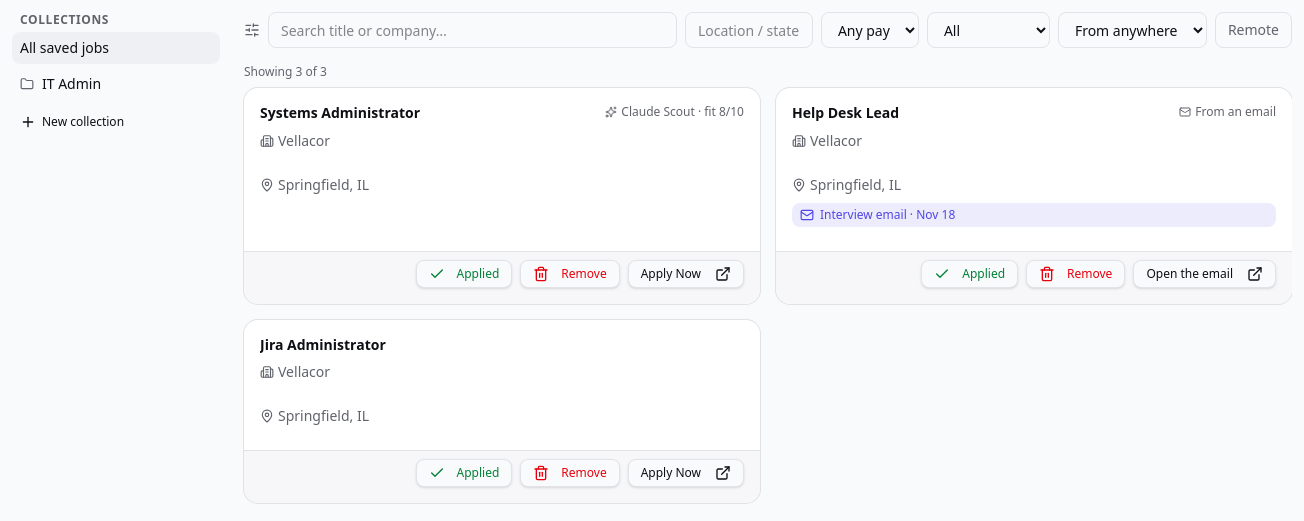
Scenario: My Jobs list (computer) › narrows to one origin, offering only the origins present
Select "Claude Scout" in the dropdown named "Where from" at (1132, 30), box [1058,12,1207,48]
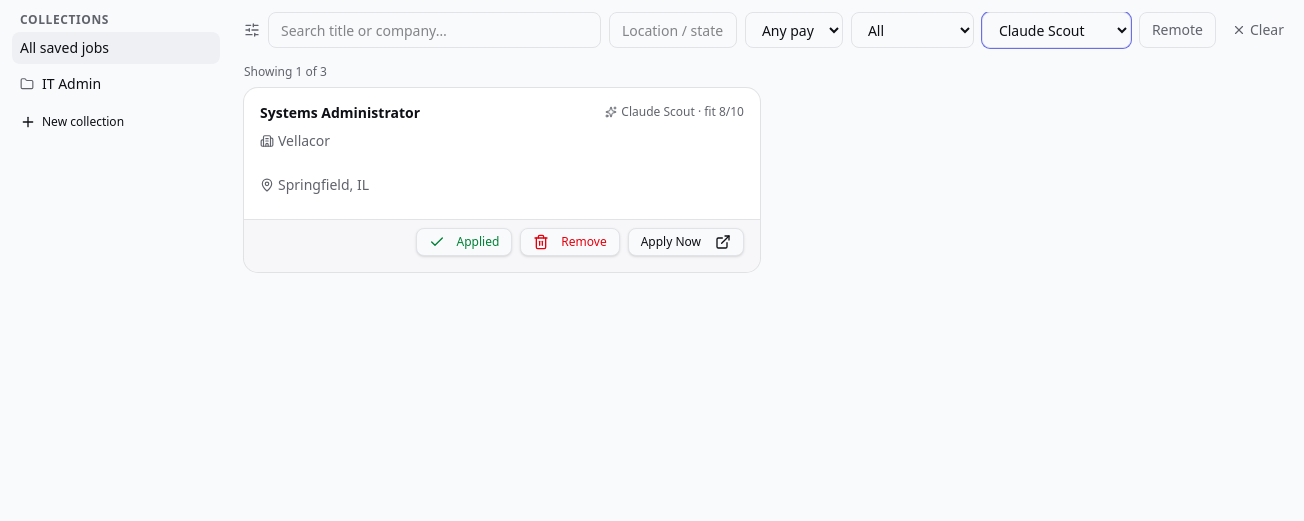
Expected: the text "Systems Administrator" is shown, [260,104,420,122]
Expected: the button "Help Desk Lead" is gone
Expected: the button "Jira Administrator" is gone
Click the button "Clear" at (1258, 30), box [1224,12,1292,48]
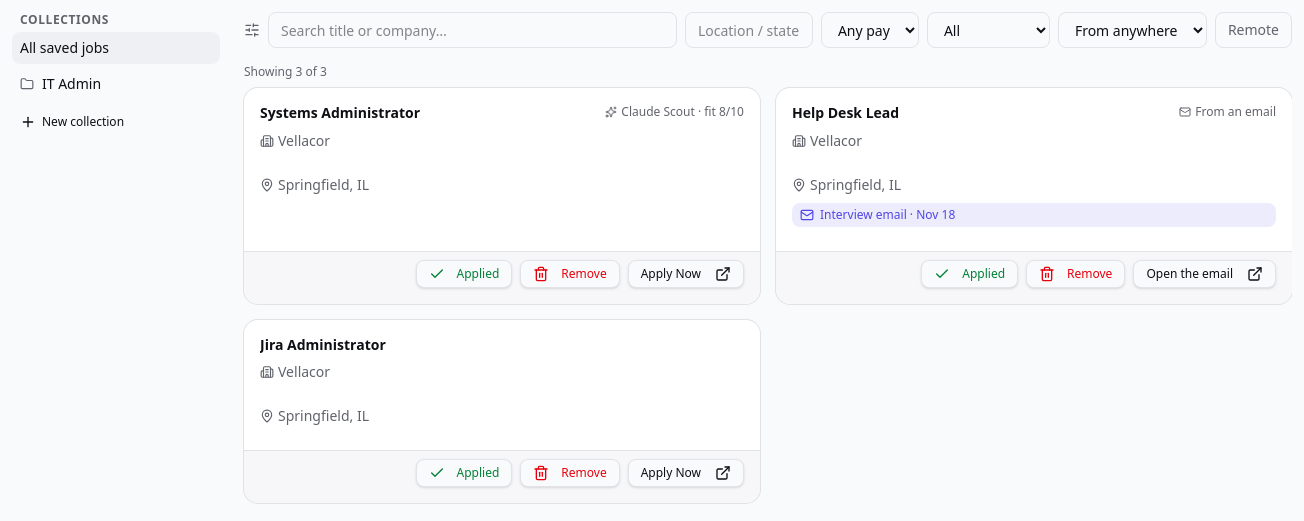
Expected: the text "Jira Administrator" is shown, [260,336,386,353]
